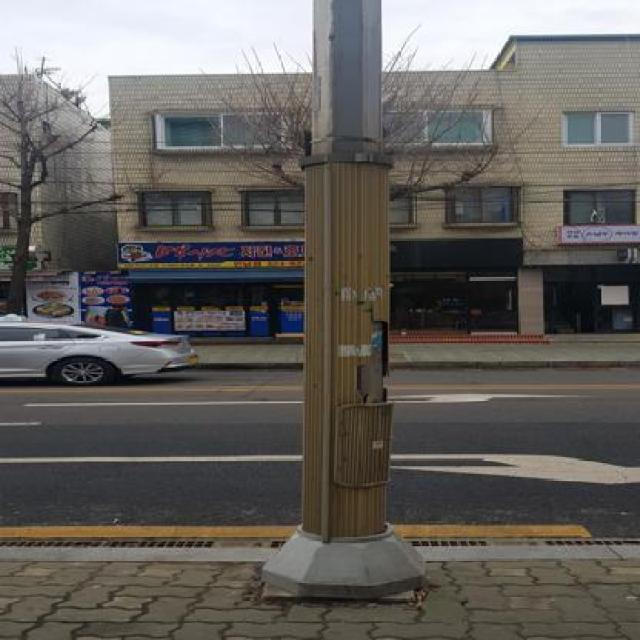pole: (254, 1, 448, 598)
